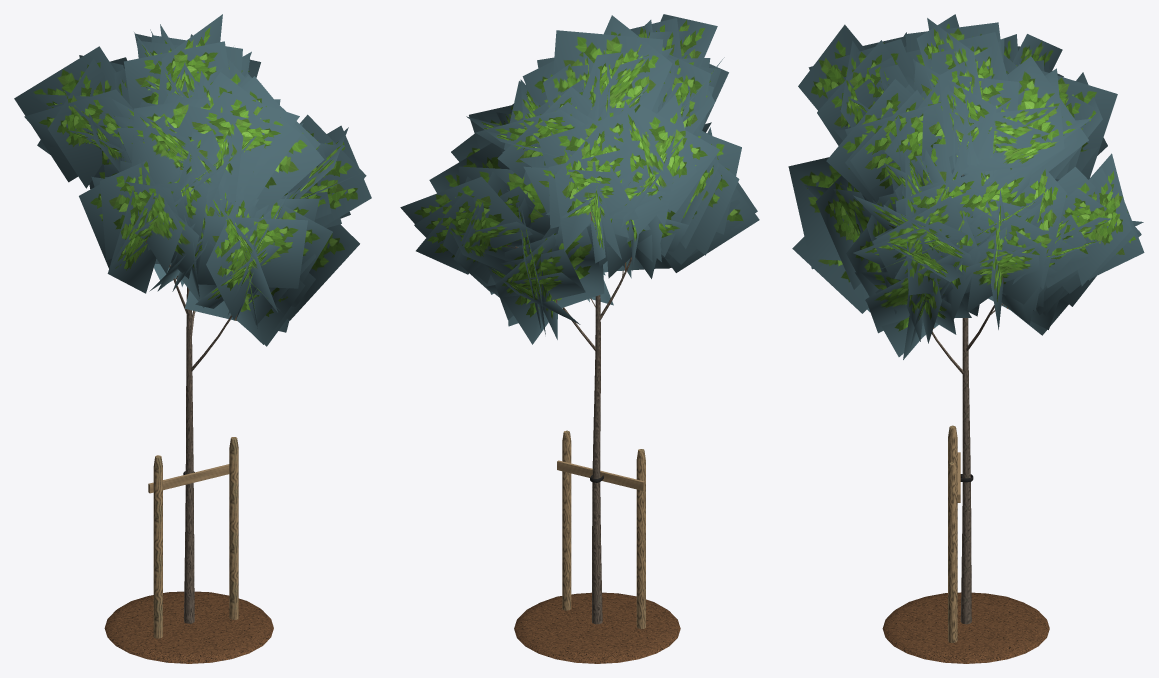
The model's file is young-staked-tree.glb.
The picture shows the model from 3 angles, left to right: view 1: azimuth 30°, elevation 25°; view 2: azimuth 150°, elevation 25°; view 3: azimuth 270°, elevation 25°; orthographic projection.
Visible parts, largest first — view 1: Leaves, Stakes, Trunk; view 2: Leaves, Stakes, Trunk; view 3: Leaves, Stakes, Trunk.
Part boxes in pixels (x1,y1,x2,y2): Leaves: [14, 14, 371, 346]; Stakes: [104, 437, 273, 663]; Trunk: [169, 264, 231, 623]; Leaves: [400, 14, 759, 344]; Stakes: [514, 430, 680, 663]; Trunk: [515, 246, 631, 624]; Leaves: [788, 14, 1144, 359]; Stakes: [882, 425, 1049, 663]; Trunk: [931, 303, 1003, 624].
Size of the model in its own units: 2.47 by 4.87 by 2.64.
Materials: 6 (5 with a texture image).
